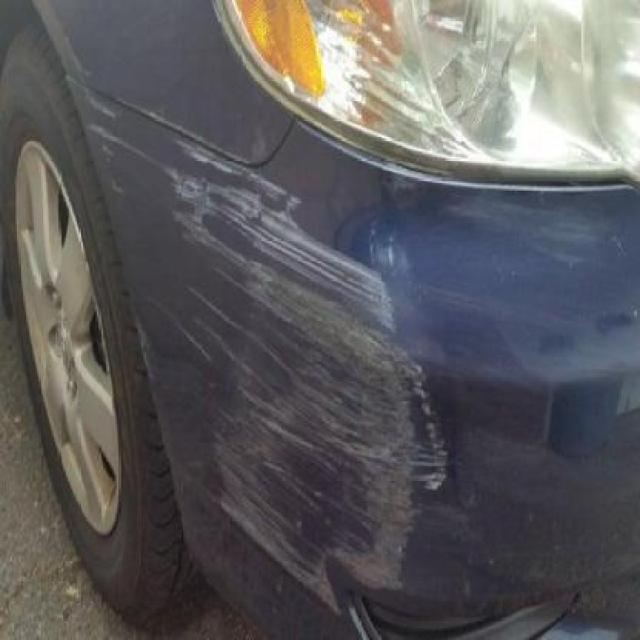scratch: (61, 68, 453, 606)
